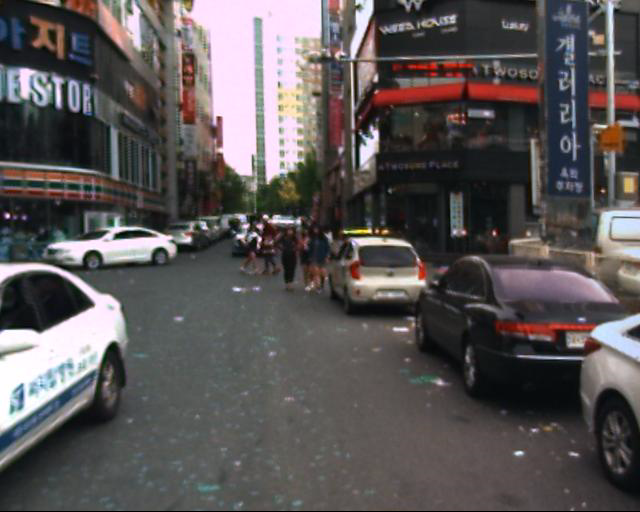person: (236, 209, 268, 287), (301, 214, 333, 292), (255, 208, 285, 283), (283, 213, 308, 291)
